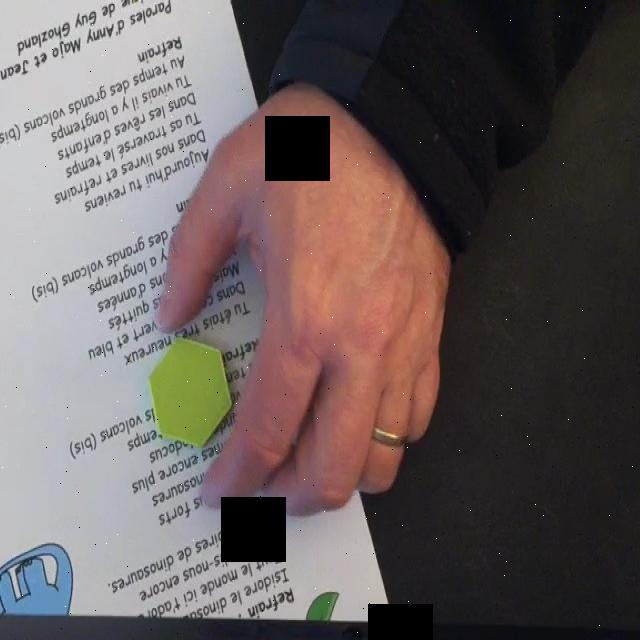hexagon: (148, 335, 233, 450)
